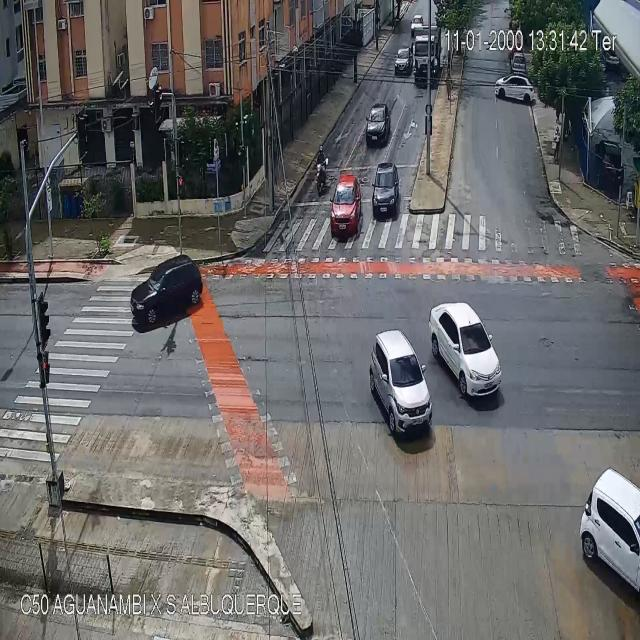Car: (580, 468, 640, 598), (428, 300, 500, 399), (370, 329, 434, 438), (131, 254, 202, 324), (332, 174, 361, 238), (371, 161, 400, 216), (495, 74, 535, 109), (366, 104, 390, 142), (395, 48, 412, 74), (512, 54, 526, 76), (411, 14, 425, 33)
Motorcycle: (315, 144, 327, 198)
Truck: (412, 32, 440, 84)
